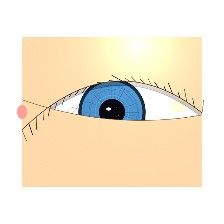pinguecula_lesion: (162, 94, 194, 119)
